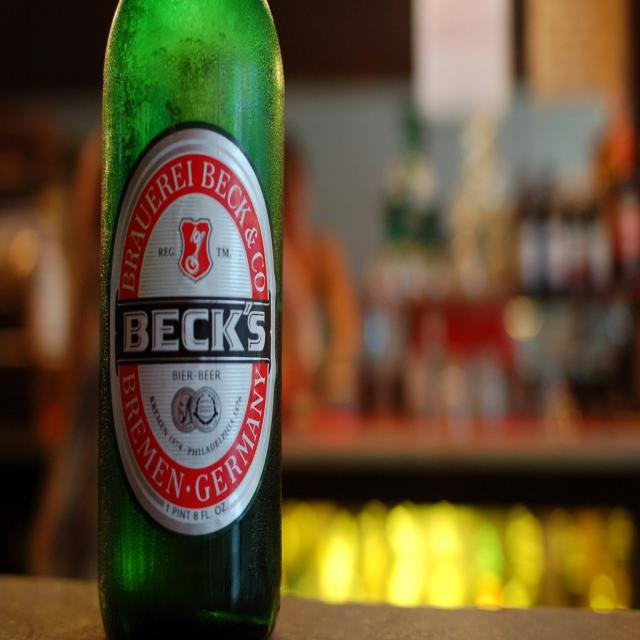becks: (108, 130, 278, 537)
